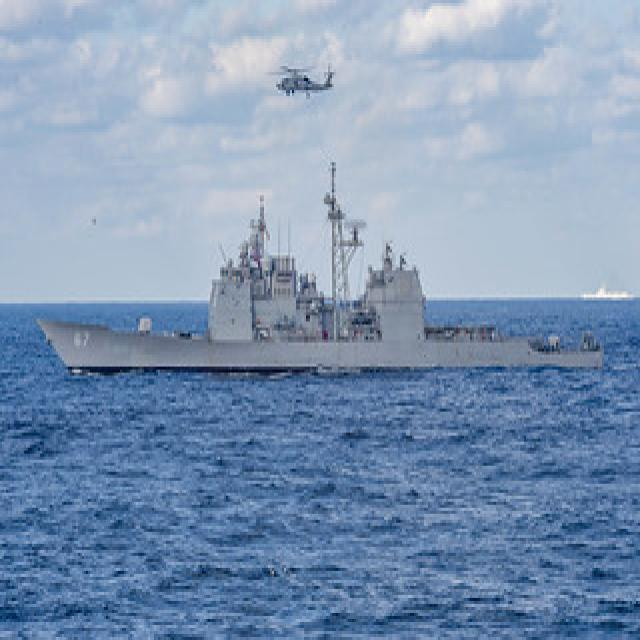navalvessels: (47, 160, 628, 432)
